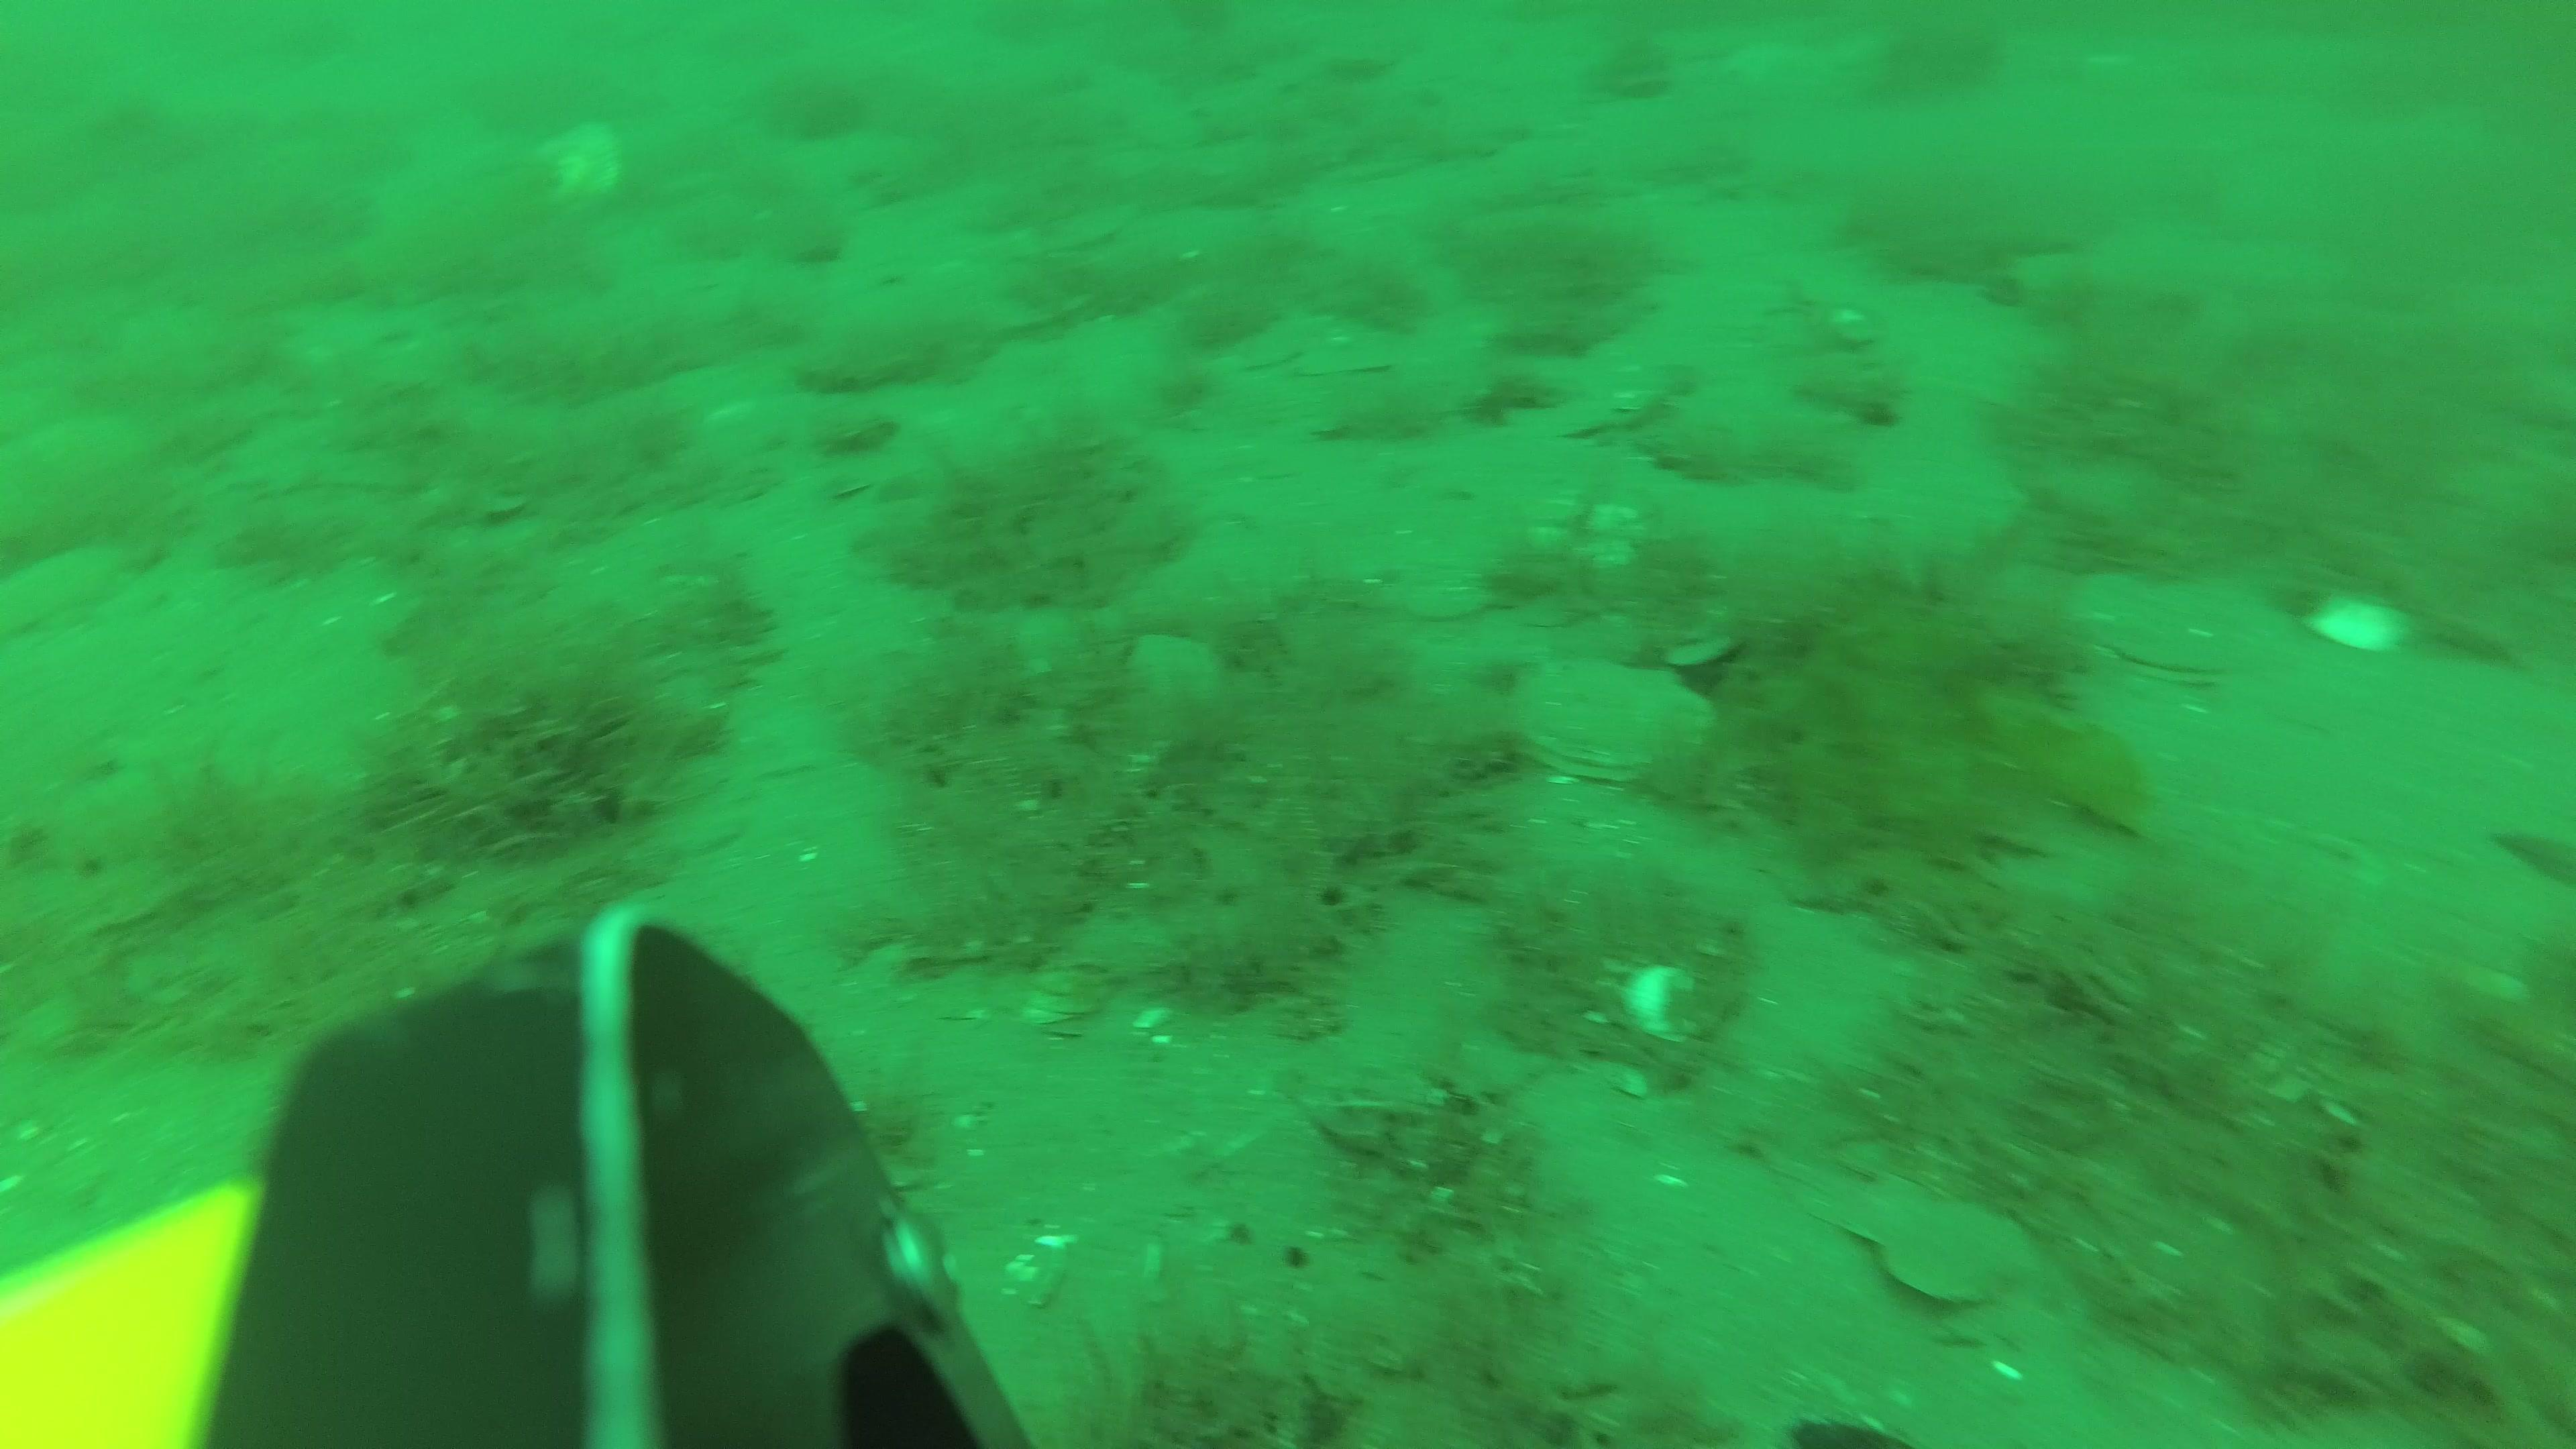scallop: (1511, 658, 1716, 780), (1102, 635, 1221, 766), (1881, 1210, 2028, 1309), (0, 543, 126, 642), (2074, 614, 2229, 688), (1530, 494, 1649, 571), (536, 122, 626, 207)
